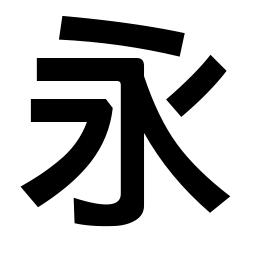D: (57, 14, 187, 48)
HSZ: (115, 55, 147, 94)
Hs: (33, 55, 71, 84)
Ne: (196, 181, 233, 215)
PNc: (148, 96, 185, 146)
PZe: (19, 169, 60, 209)
Ps: (196, 53, 229, 85)
SG: (71, 190, 147, 229)
Sm: (119, 144, 146, 177)
TPZ: (77, 96, 113, 137)
Ts: (28, 96, 56, 123)
